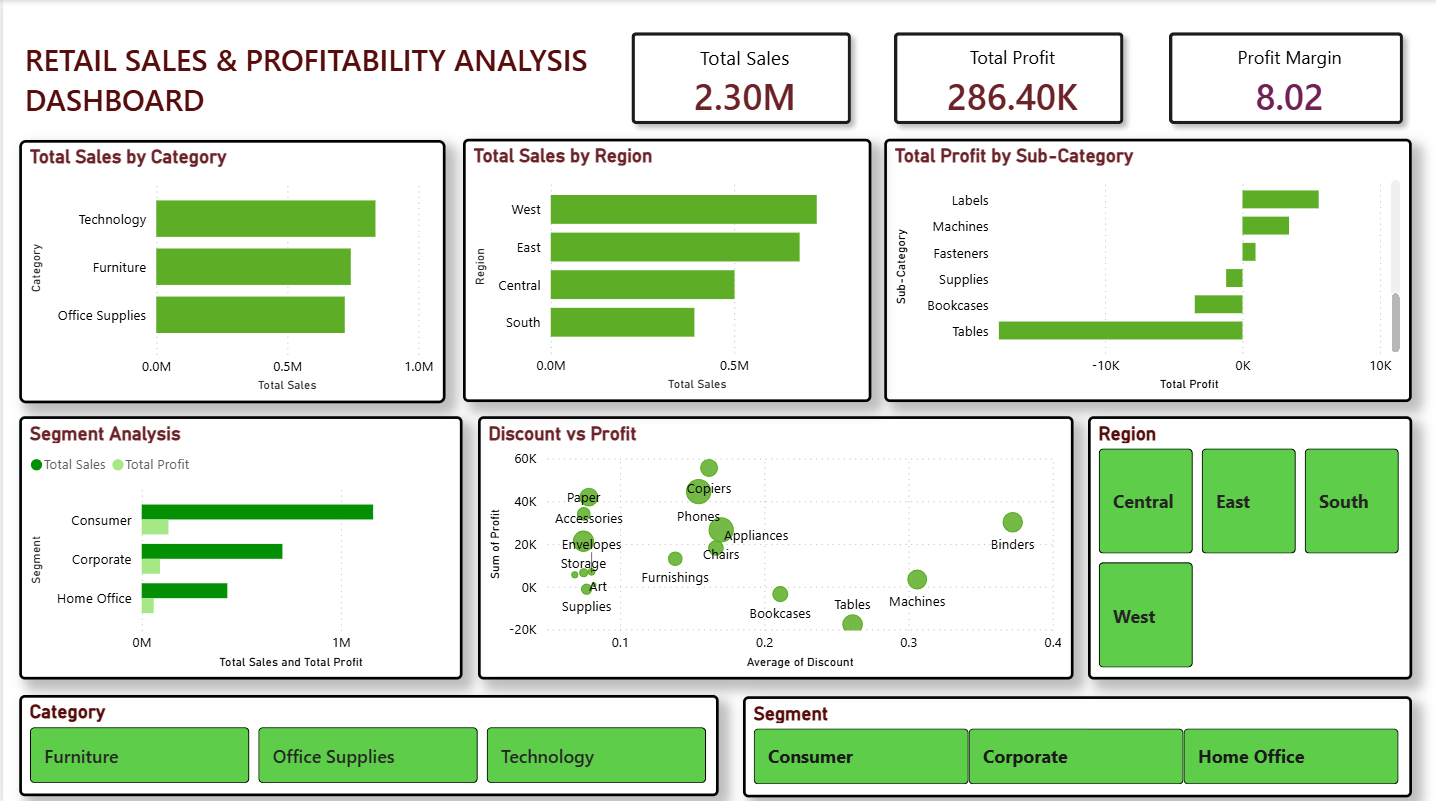

What the dashboard file says about the page in this screenshot:
{"tool":"powerbi","page":{"name":"Page 1","canvas":[1280,720],"ordinal":0},"visuals":[{"type":"cardVisual","fields":{"Data":["SampleSuperstore.Total Profit"]},"box":[767.4,0,263.9,140],"z":0},{"type":"cardVisual","fields":{"Data":["SampleSuperstore.Profit Margin"]},"box":[1012.4,0,267.9,140],"z":1000},{"type":"clusteredBarChart","fields":{"Category":["SampleSuperstore.Category"],"Y":["SampleSuperstore.Total Sales"]},"box":[14.8,125.2,381,235.6],"z":2000},{"type":"clusteredBarChart","fields":{"Category":["SampleSuperstore.Sub-Category"],"Y":["SampleSuperstore.Total Profit"]},"box":[787.5,123.9,471.2,235.6],"z":3000},{"type":"scatterChart","title":"Discount vs Profit","fields":{"X":["Avg(SampleSuperstore.Discount)"],"Y":["Sum(SampleSuperstore.Profit)"],"Size":["Sum(SampleSuperstore.Sales)"],"Category":["SampleSuperstore.Sub-Category"]},"box":[424.1,371.6,531.8,235.6],"z":4000},{"type":"clusteredBarChart","title":"Segment Analysis","fields":{"Category":["SampleSuperstore.Segment"],"Y":["SampleSuperstore.Total Sales","SampleSuperstore.Total Profit"]},"box":[14.8,371.6,395.8,235.6],"z":5000},{"type":"textbox","box":[14.3,30,538.6,80],"z":6000},{"type":"cardVisual","fields":{"Data":["SampleSuperstore.Total Sales"]},"box":[533.1,0,254.4,140],"z":7000},{"type":"clusteredBarChart","fields":{"Category":["SampleSuperstore.Region"],"Y":["SampleSuperstore.Total Sales"]},"box":[410.6,123.9,364.8,235.6],"z":8000},{"type":"advancedSlicerVisual","fields":{"Values":["SampleSuperstore.Region"]},"box":[969.3,371.6,289.4,235.6],"z":9000},{"type":"advancedSlicerVisual","fields":{"Values":["SampleSuperstore.Category"]},"box":[14.8,620.6,624.7,90.2],"z":10000},{"type":"advancedSlicerVisual","fields":{"Values":["SampleSuperstore.Segment"]},"box":[661,622,597.7,90.2],"z":11000}]}

Visuals, with their boxes in screenshot pixels (x1, y1, x2, y2), scaled from the page's 1280x720 canvas onto the 1436x801 screenshot:
cardVisual - SampleSuperstore.Total Profit: [left=861, top=0, right=1157, bottom=156]
cardVisual - SampleSuperstore.Profit Margin: [left=1136, top=0, right=1435, bottom=156]
clusteredBarChart - SampleSuperstore.Category x SampleSuperstore.Total Sales: [left=17, top=139, right=444, bottom=401]
clusteredBarChart - SampleSuperstore.Sub-Category x SampleSuperstore.Total Profit: [left=883, top=138, right=1412, bottom=400]
"Discount vs Profit" scatterChart: [left=476, top=413, right=1072, bottom=676]
"Segment Analysis" clusteredBarChart: [left=17, top=413, right=461, bottom=676]
textbox: [left=16, top=33, right=620, bottom=122]
cardVisual - SampleSuperstore.Total Sales: [left=598, top=0, right=883, bottom=156]
clusteredBarChart - SampleSuperstore.Region x SampleSuperstore.Total Sales: [left=461, top=138, right=870, bottom=400]
advancedSlicerVisual - SampleSuperstore.Region: [left=1087, top=413, right=1412, bottom=676]
advancedSlicerVisual - SampleSuperstore.Category: [left=17, top=690, right=717, bottom=791]
advancedSlicerVisual - SampleSuperstore.Segment: [left=742, top=692, right=1412, bottom=792]
